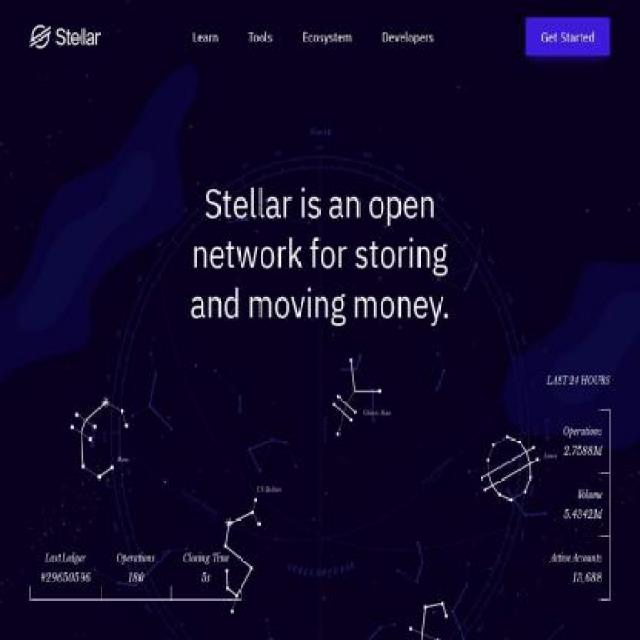button: (367, 0, 448, 74), (287, 0, 367, 74), (232, 0, 288, 74), (177, 0, 232, 74), (525, 16, 610, 56), (29, 24, 100, 48)
